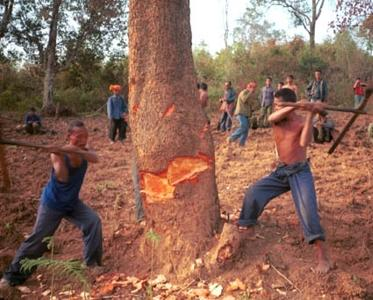person: (238, 89, 332, 277)
